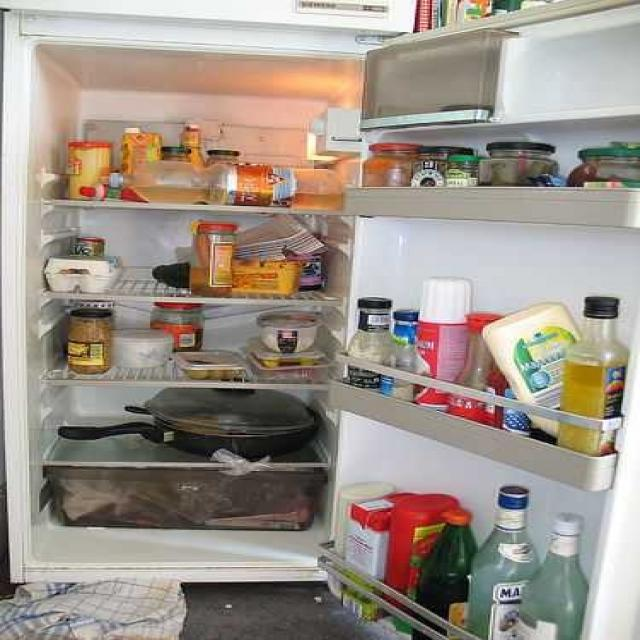refrigerator: (0, 89, 627, 640)
